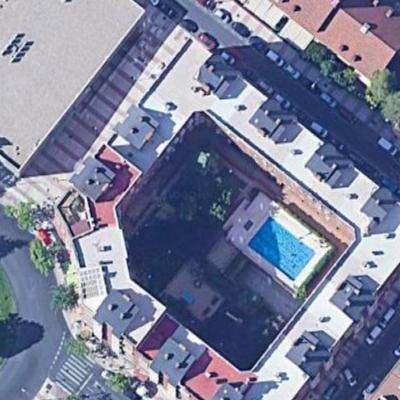tree: (363, 66, 395, 111), (27, 235, 58, 279), (43, 280, 81, 315), (2, 199, 42, 231), (63, 332, 94, 362), (103, 369, 135, 397), (335, 57, 360, 90), (303, 41, 330, 68)
